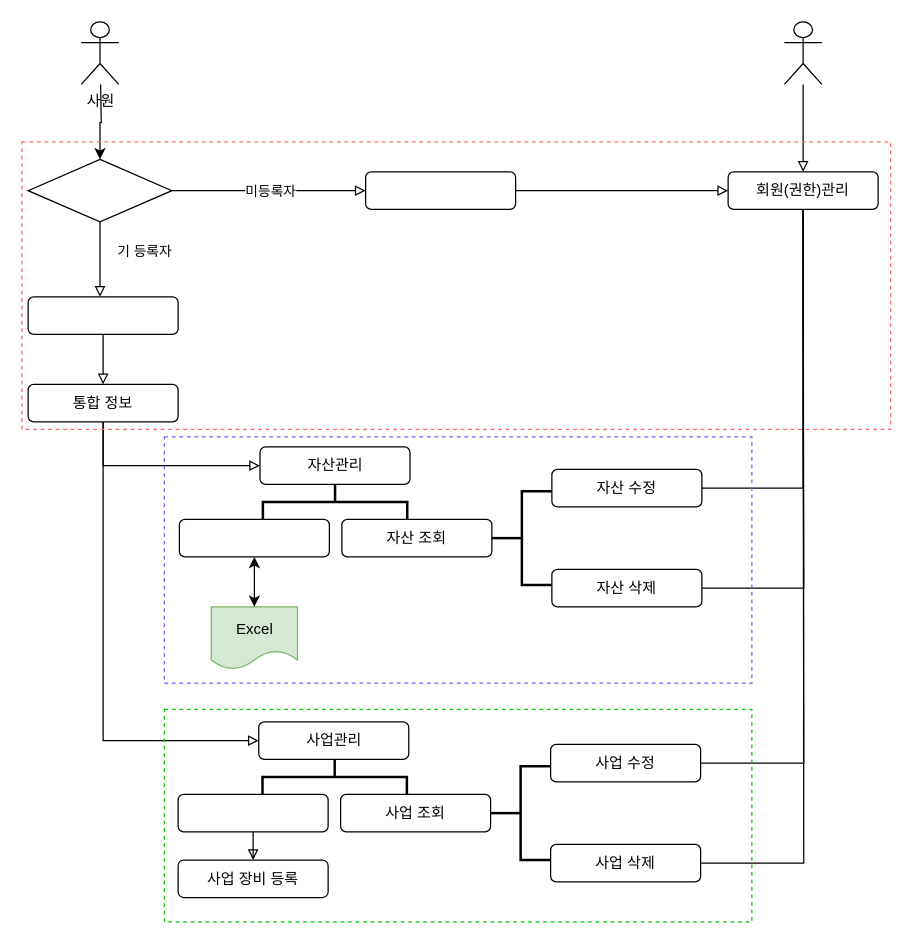
The diagram is 913 pixels wide and 944 high, and some of its shapes have lost their labels. The shapes that lost their labels are listed below. From the top down, each one's centre as x and y in pixels, then its label:
point 802,52: 관리자
point 99,190: 등록여부
point 440,190: 가입
point 102,315: 로그인
point 253,537: 자산 등록
point 252,812: 사업 등록
